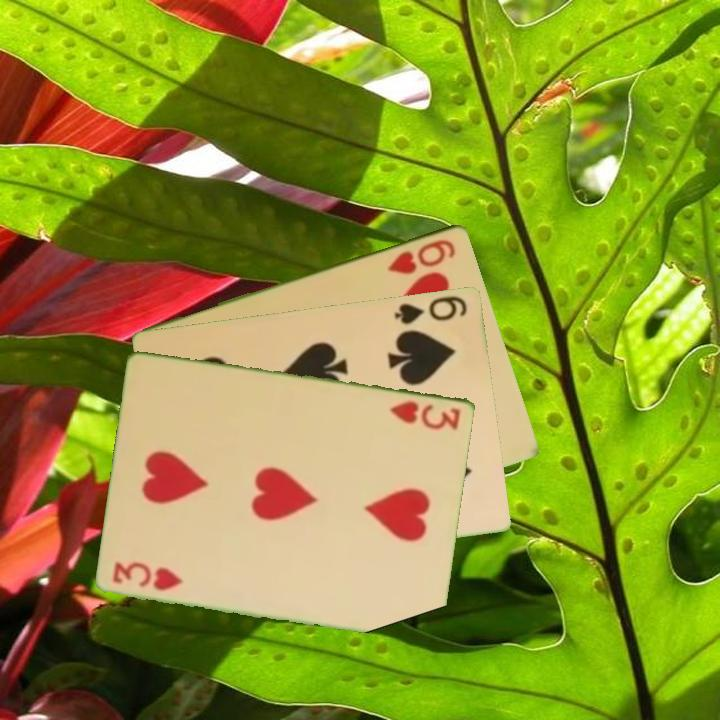3h: (386, 396, 464, 433), (110, 558, 187, 593)
6h: (384, 235, 459, 277)
6s: (391, 292, 470, 327)
